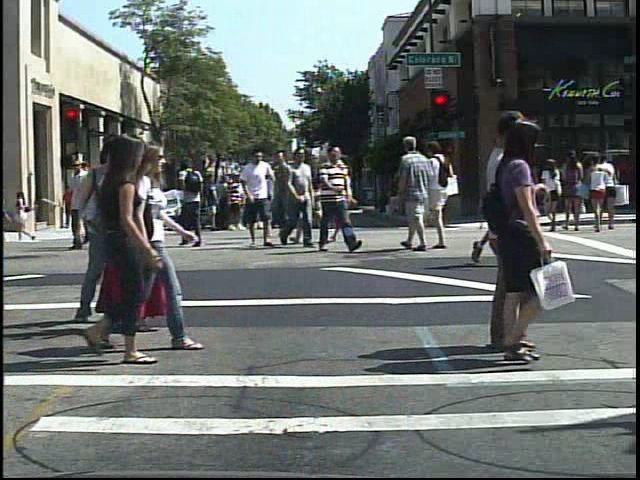person: (458, 108, 583, 359), (463, 114, 582, 367), (85, 128, 161, 370), (130, 136, 206, 353), (97, 131, 177, 336), (74, 131, 120, 336), (478, 126, 534, 267), (310, 142, 359, 256), (396, 133, 434, 258), (298, 141, 339, 251), (277, 143, 315, 252), (242, 145, 277, 255), (432, 137, 463, 248), (335, 146, 368, 248), (136, 157, 171, 246), (180, 153, 209, 249), (543, 154, 565, 235), (223, 168, 247, 237), (64, 182, 84, 232)
